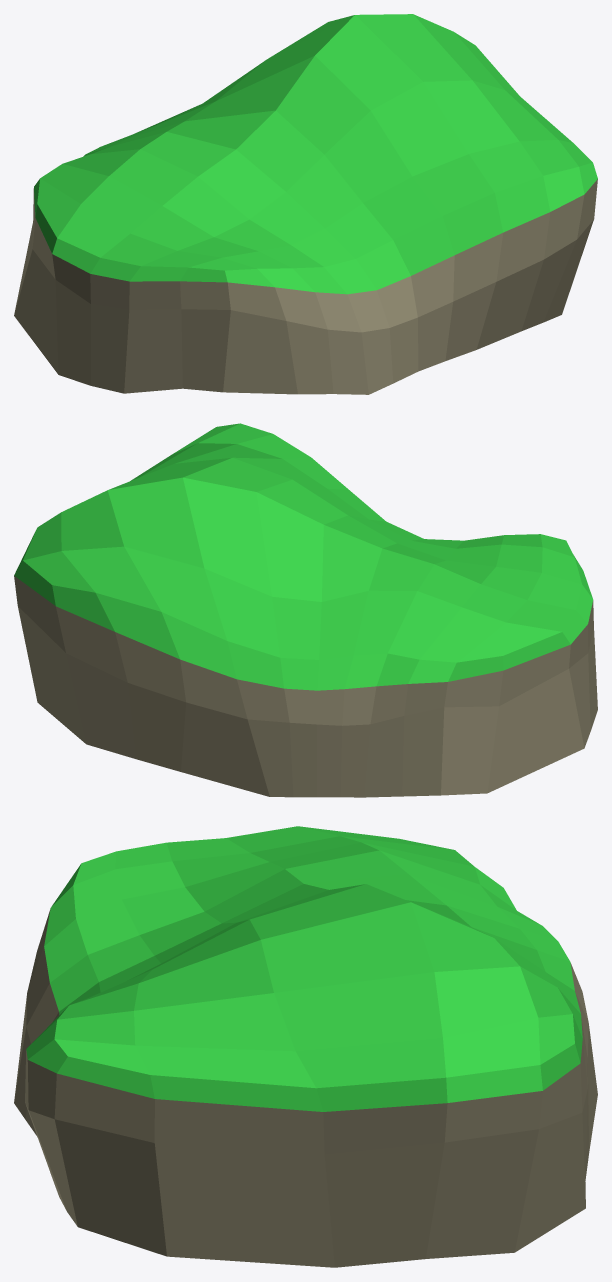
The model's file is platformsrping2fbx.fbx.
3 views of the same model, one above another, from view 1: azimuth 30°, elevation 25°; view 2: azimuth 150°, elevation 25°; view 3: azimuth 270°, elevation 25° (orthographic). The views are drawn at different scales.
Visible parts, largest first — view 1: Plane.001; view 2: Plane.001; view 3: Plane.001.
Boxes of the visible parts, x1,y1,x2,y2 form: Plane.001: (14, 14, 597, 394); Plane.001: (14, 423, 597, 797); Plane.001: (14, 826, 597, 1267).
Bounding box in the file's own units: 353 × 159 × 288.
